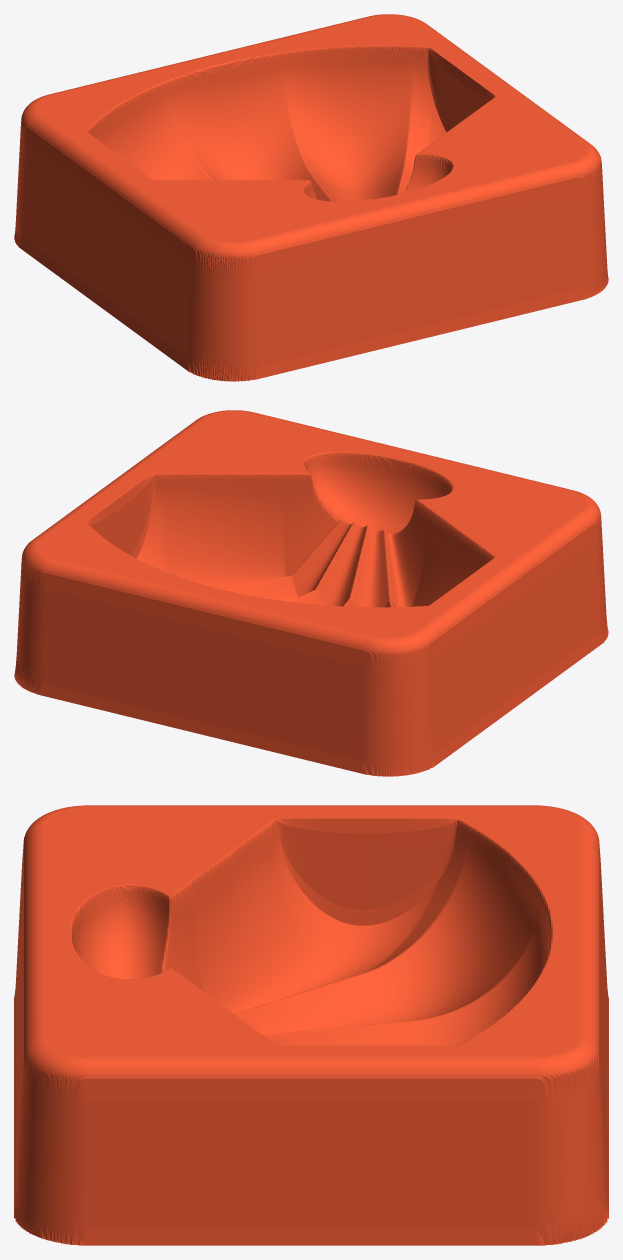
The model's file is mold.glb.
3 renders of one model, top to bottom at view 1: azimuth 30°, elevation 25°; view 2: azimuth 150°, elevation 25°; view 3: azimuth 270°, elevation 25°, orthographic. The views are drawn at different scales.
Visible parts, largest first — view 1: geometry_0; view 2: geometry_0; view 3: geometry_0.
Part boxes in pixels (bbox=[...]): geometry_0: bbox=[14, 14, 608, 381]; geometry_0: bbox=[14, 410, 608, 776]; geometry_0: bbox=[14, 805, 608, 1245].
Size of the model in its own units: 0.0786 by 0.0235 by 0.072.
